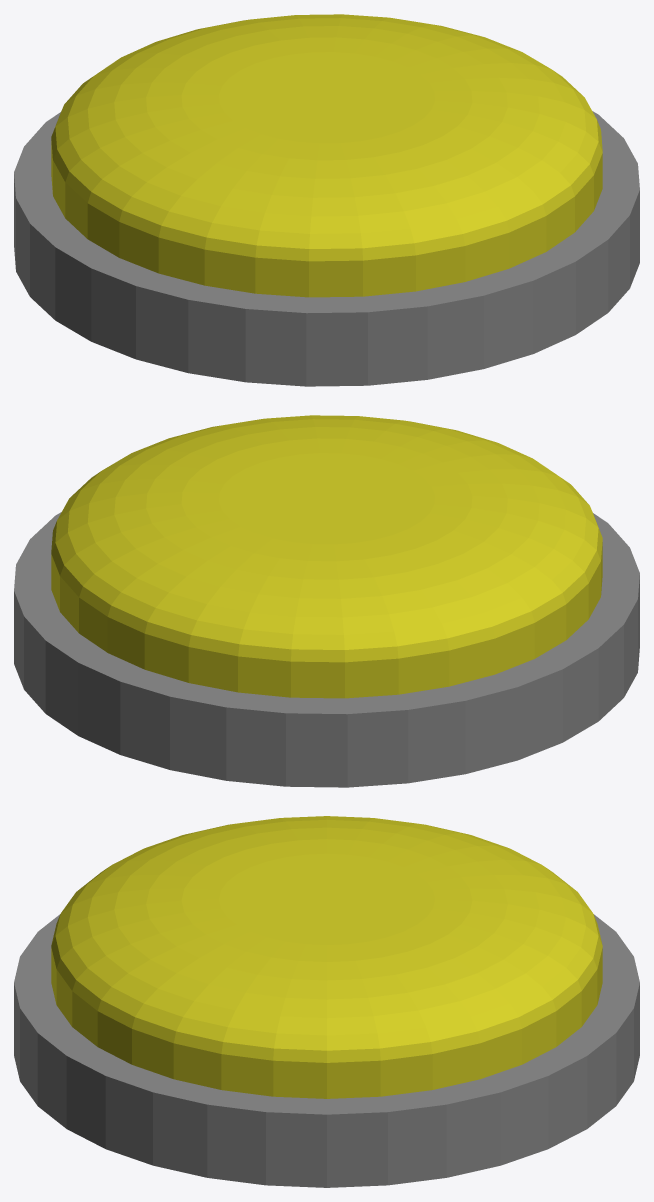
Rendered from Simple_button.fbx.
3 views of the same model, one above another, from view 1: azimuth 30°, elevation 25°; view 2: azimuth 150°, elevation 25°; view 3: azimuth 270°, elevation 25° (orthographic).
Parts seen in each view (by area): view 1: Cylinder; view 2: Cylinder; view 3: Cylinder.
Part boxes in pixels (<box>): Cylinder: <box>14,14,639,386</box>; Cylinder: <box>14,415,639,787</box>; Cylinder: <box>14,816,639,1187</box>.
Size of the model in its own units: 20 by 5.51 by 20.
